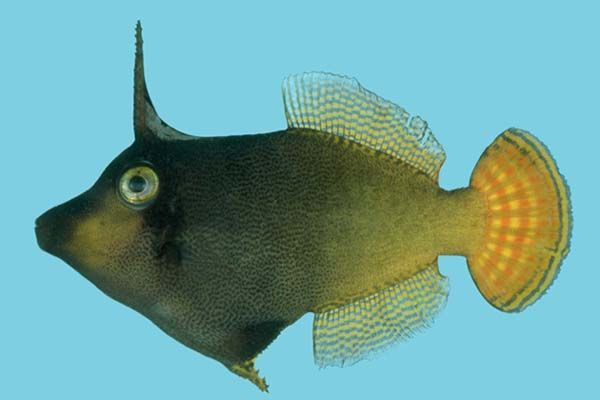fish: (35, 19, 575, 393)
